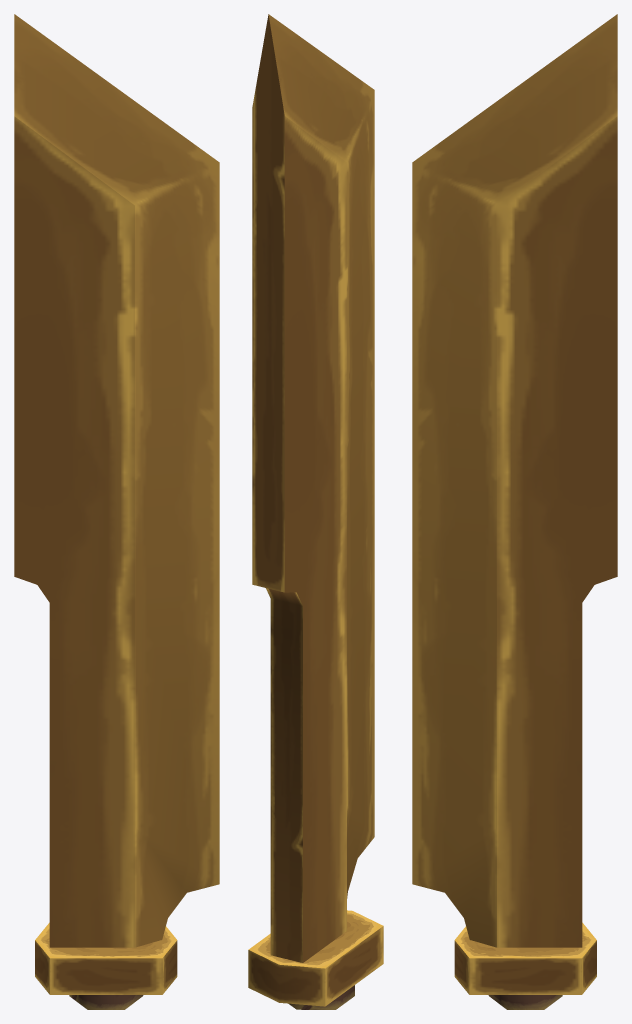
Rendered from SM_WEP_head_sword_battle_43.fbx.
3 renders of one model, left to right at view 1: azimuth 90°, elevation 25°; view 2: azimuth 150°, elevation 25°; view 3: azimuth 270°, elevation 25°, orthographic. The views are drawn at different scales.
Parts seen in each view (by area): view 1: SM_WEP_head_sword_battle_43; view 2: SM_WEP_head_sword_battle_43; view 3: SM_WEP_head_sword_battle_43.
Boxes of the visible parts, x1=… form: SM_WEP_head_sword_battle_43: x1=14, y1=14, x2=219, y2=1009; SM_WEP_head_sword_battle_43: x1=248, y1=14, x2=383, y2=1009; SM_WEP_head_sword_battle_43: x1=412, y1=14, x2=617, y2=1009.
Size of the model in its own units: 9.79 by 124 by 23.38.
